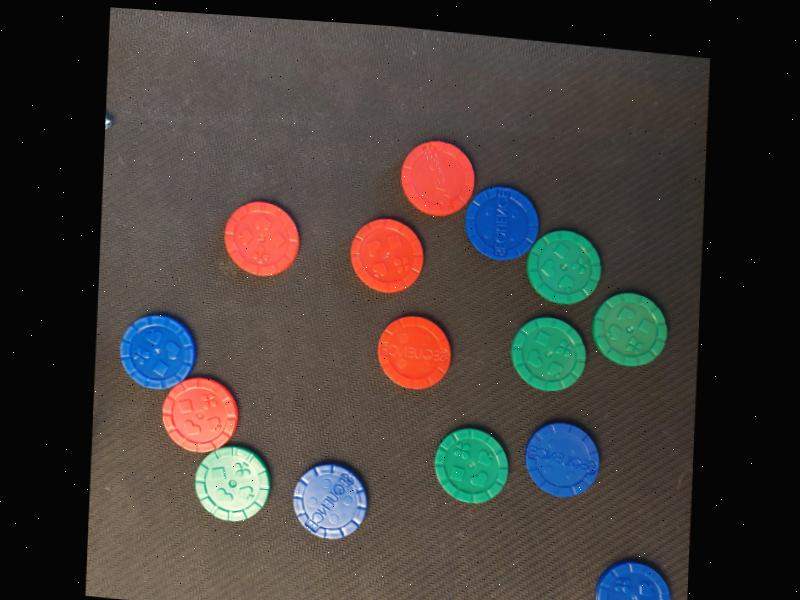Blue_Token: (281, 455, 379, 547), (458, 177, 547, 272), (114, 299, 195, 400), (517, 413, 605, 504), (591, 556, 679, 600)
Green_Token: (191, 437, 269, 535), (522, 231, 613, 312), (507, 312, 589, 396), (595, 284, 664, 381), (431, 423, 510, 507)
Red_Token: (367, 310, 462, 402), (339, 210, 429, 301), (215, 193, 306, 282), (156, 371, 239, 464), (399, 132, 482, 223)
